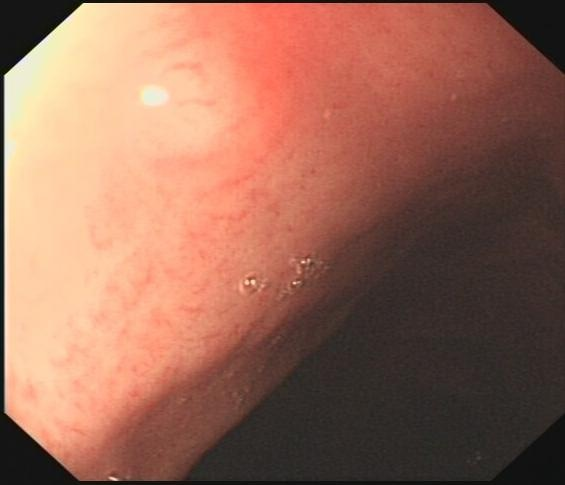Polyp: (106, 12, 298, 182)
